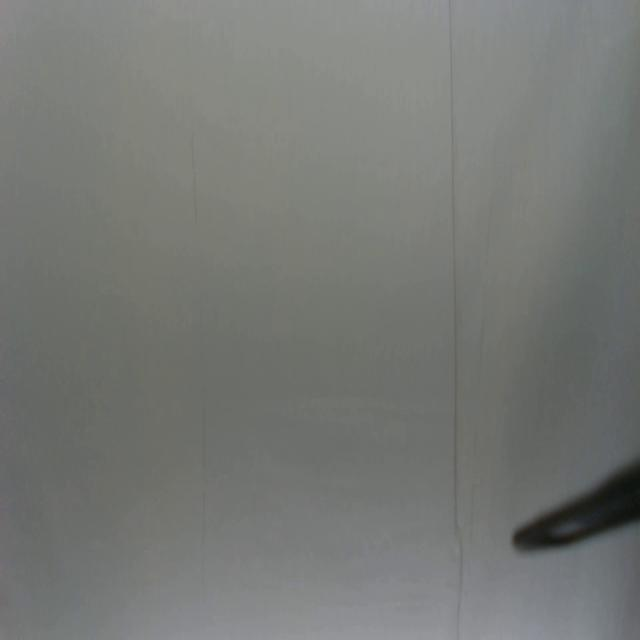crease: (446, 0, 459, 542), (197, 398, 209, 598), (189, 132, 201, 228), (454, 543, 466, 636)
